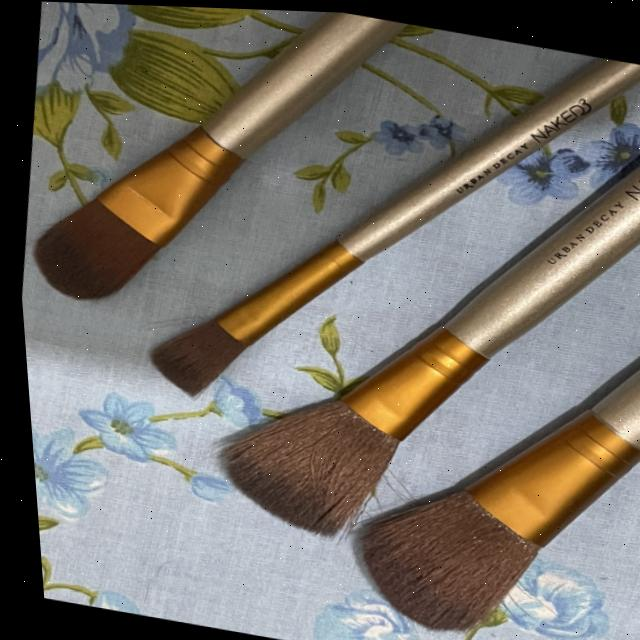brush: (0, 0, 351, 346), (173, 369, 558, 640), (323, 473, 571, 640), (107, 304, 278, 419)
